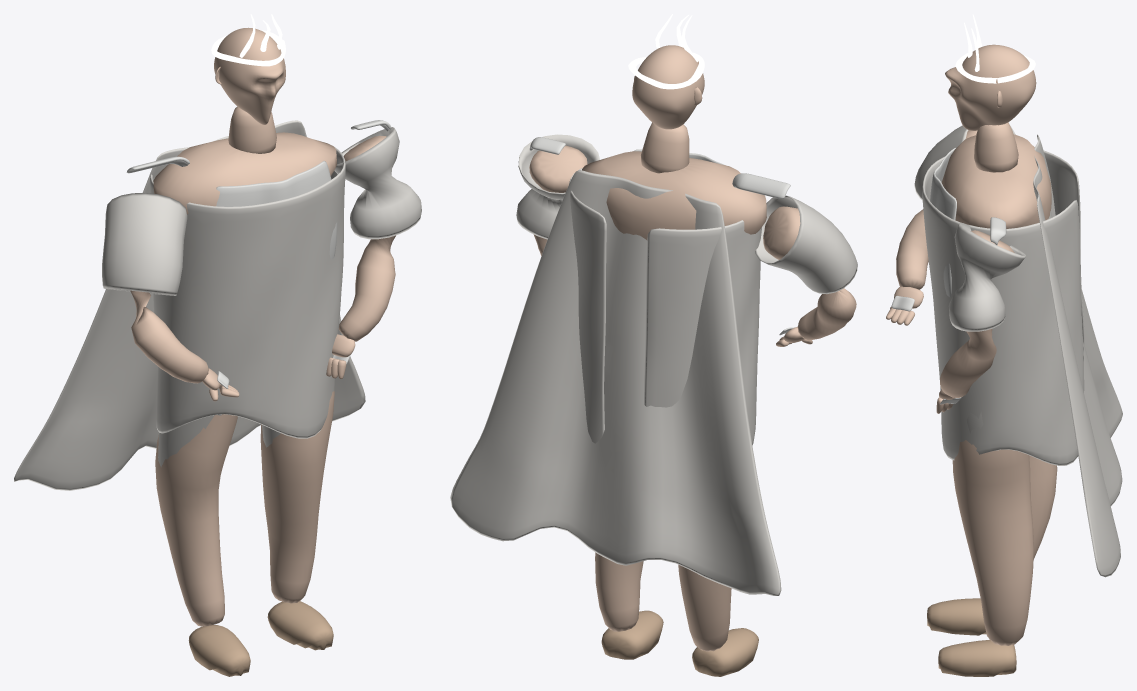
The model's file is basilica_brute.glb.
The picture shows the model from 3 angles, left to right: view 1: azimuth 30°, elevation 25°; view 2: azimuth 150°, elevation 25°; view 3: azimuth 270°, elevation 25°; orthographic projection. The views are drawn at different scales.
Visible parts, largest first — view 1: Robe, Cape, LegR, LegL, SleeveR, Body, SleeveL, Head, ArmL, ArmR, Plate, BootR (+4 smaller); view 2: Cape, Robe, Body, SleeveR, Head, ArmR, LegR, LegL, SleeveL, BootR, Neck, ArmL (+3 smaller); view 3: Robe, LegL, Cape, Body, Head, SleeveL, ArmL, BootL, ArmR, BootR, Neck, LegR (+4 smaller).
Boxes of the visible parts, <box> form: Robe: <box>150,139,345,438</box>; Cape: <box>14,120,365,490</box>; LegR: <box>155,414,237,626</box>; LegL: <box>260,391,334,603</box>; SleeveR: <box>102,193,187,295</box>; Body: <box>153,132,336,214</box>; SleeveL: <box>334,127,421,239</box>; Head: <box>214,27,285,124</box>; ArmL: <box>338,135,395,341</box>; ArmR: <box>130,290,208,383</box>; Plate: <box>216,161,337,259</box>; BootR: <box>188,625,250,676</box>; Cape: <box>450,170,781,595</box>; Robe: <box>569,168,761,445</box>; Body: <box>582,151,766,240</box>; SleeveR: <box>755,195,857,294</box>; Head: <box>632,45,704,129</box>; ArmR: <box>763,206,856,340</box>; LegR: <box>678,564,731,651</box>; LegL: <box>595,552,643,631</box>; SleeveL: <box>516,134,599,239</box>; BootR: <box>692,628,758,676</box>; Neck: <box>641,122,689,173</box>; ArmL: <box>529,145,587,255</box>; Robe: <box>922,150,1084,465</box>; LegL: <box>952,440,1033,645</box>; Cape: <box>1033,134,1122,577</box>; Body: <box>941,134,1051,228</box>; Head: <box>945,44,1036,130</box>; SleeveL: <box>948,222,1025,331</box>; ArmL: <box>940,230,1014,397</box>; BootL: <box>938,639,1016,676</box>; ArmR: <box>896,130,977,289</box>; BootR: <box>927,598,986,635</box>; Neck: <box>974,122,1018,172</box>; LegR: <box>1029,455,1057,559</box>.
Bounding box in the file's own units: 1.05 × 1.87 × 0.6398.
